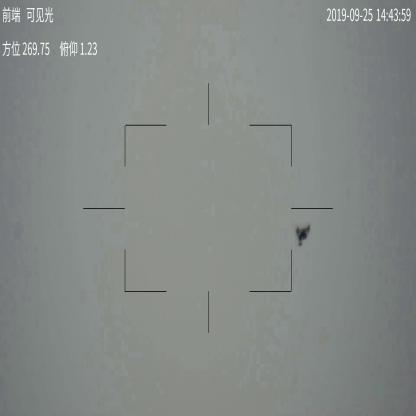uav: (292, 223, 315, 247)
